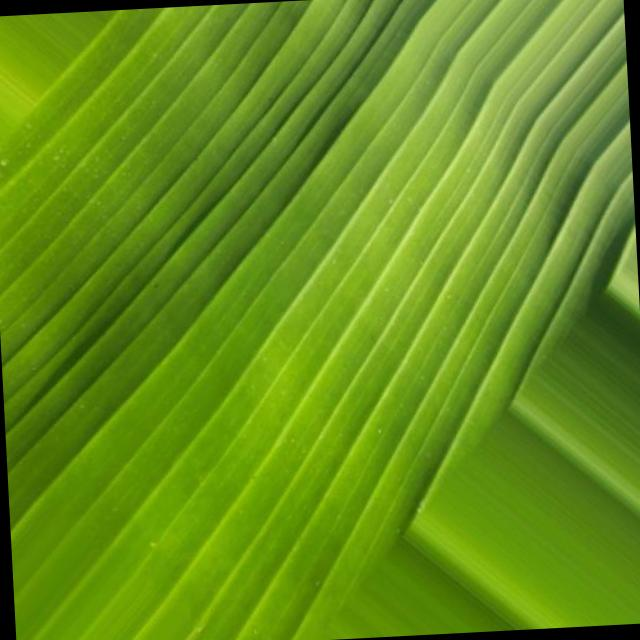Banana_Healthy: (81, 58, 442, 454)
